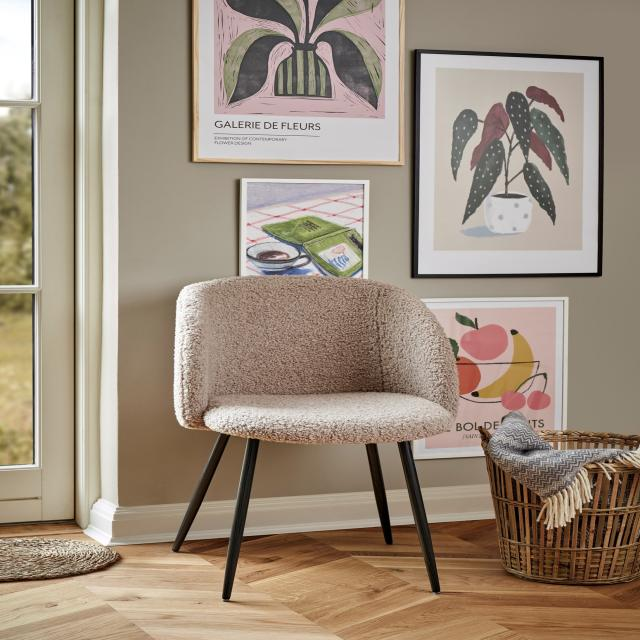chair: (108, 251, 542, 640)
